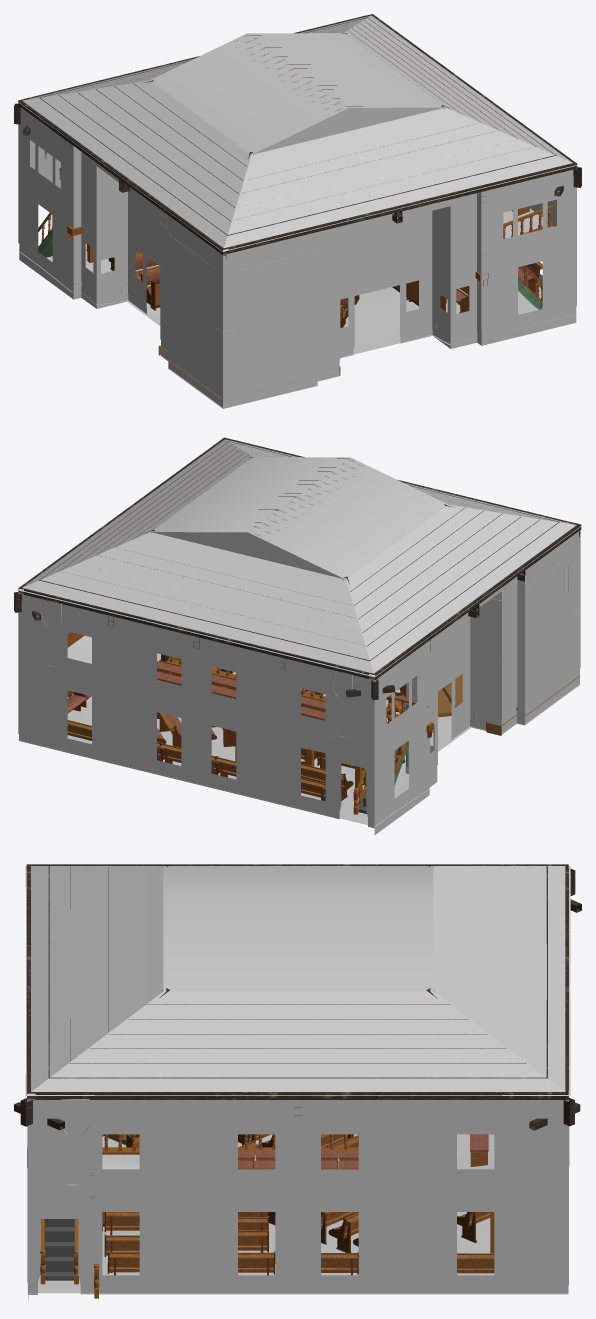
The model's file is OwenMemorialHall_Interior.fbx.
3 views of the same model, one above another, from view 1: azimuth 30°, elevation 25°; view 2: azimuth 150°, elevation 25°; view 3: azimuth 270°, elevation 25° (orthographic). The views are drawn at different scales.
Visible parts, largest first — view 1: OwenInnerwall_Roof, OwenInnerwall_Side, OwenBench_Bookstand, OwenInnerwall_Big, OwenInnerwall_Floor, OwenBench_Bench, OwenDoor_StairBase; view 2: OwenInnerwall_Roof, OwenInnerwall_Side, OwenBench_Bookstand, OwenBench_Bench, OwenInnerwall_Floor, OwenInnerwall_Big, OwenBench_MainStage; view 3: OwenInnerwall_Roof, OwenInnerwall_Side, OwenBench_Bookstand, OwenBench_Bench, OwenInnerwall_Floor.
Boxes of the visible parts, bbox=[...] form: OwenInnerwall_Roof: bbox=[17, 15, 577, 251]; OwenInnerwall_Side: bbox=[18, 105, 576, 408]; OwenBench_Bookstand: bbox=[14, 14, 581, 311]; OwenInnerwall_Big: bbox=[160, 222, 334, 378]; OwenInnerwall_Floor: bbox=[18, 170, 576, 407]; OwenBench_Bench: bbox=[86, 206, 542, 327]; OwenDoor_StairBase: bbox=[38, 230, 542, 329]; OwenInnerwall_Roof: bbox=[17, 439, 581, 737]; OwenInnerwall_Side: bbox=[18, 530, 580, 834]; OwenBench_Bookstand: bbox=[14, 437, 581, 814]; OwenBench_Bench: bbox=[67, 631, 406, 801]; OwenInnerwall_Floor: bbox=[18, 635, 579, 826]; OwenInnerwall_Big: bbox=[492, 557, 571, 697]; OwenBench_MainStage: bbox=[438, 674, 579, 735]; OwenInnerwall_Roof: bbox=[25, 866, 570, 1185]; OwenInnerwall_Side: bbox=[27, 1099, 568, 1300]; OwenBench_Bookstand: bbox=[14, 864, 581, 1298]; OwenBench_Bench: bbox=[104, 1134, 494, 1275]; OwenInnerwall_Floor: bbox=[27, 1134, 568, 1293].
Size of the model in its own units: 1473 by 862 by 1477.
